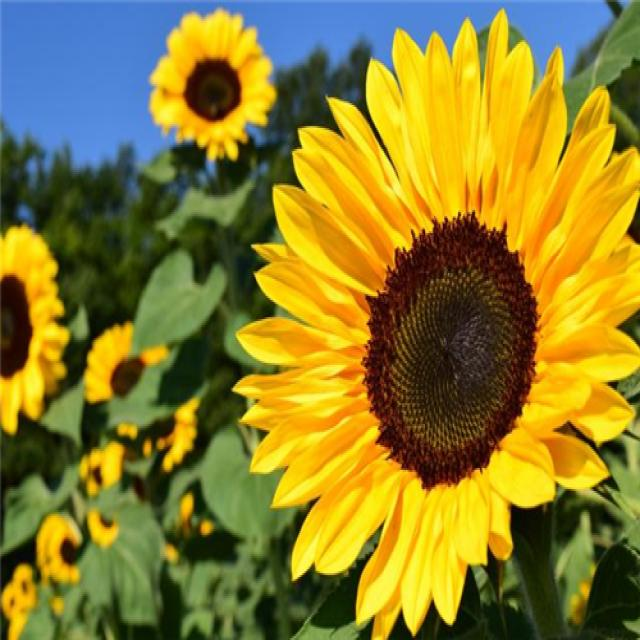sunflower: (234, 7, 640, 639), (147, 0, 277, 157), (0, 205, 72, 442), (80, 319, 177, 438), (32, 510, 87, 587)
